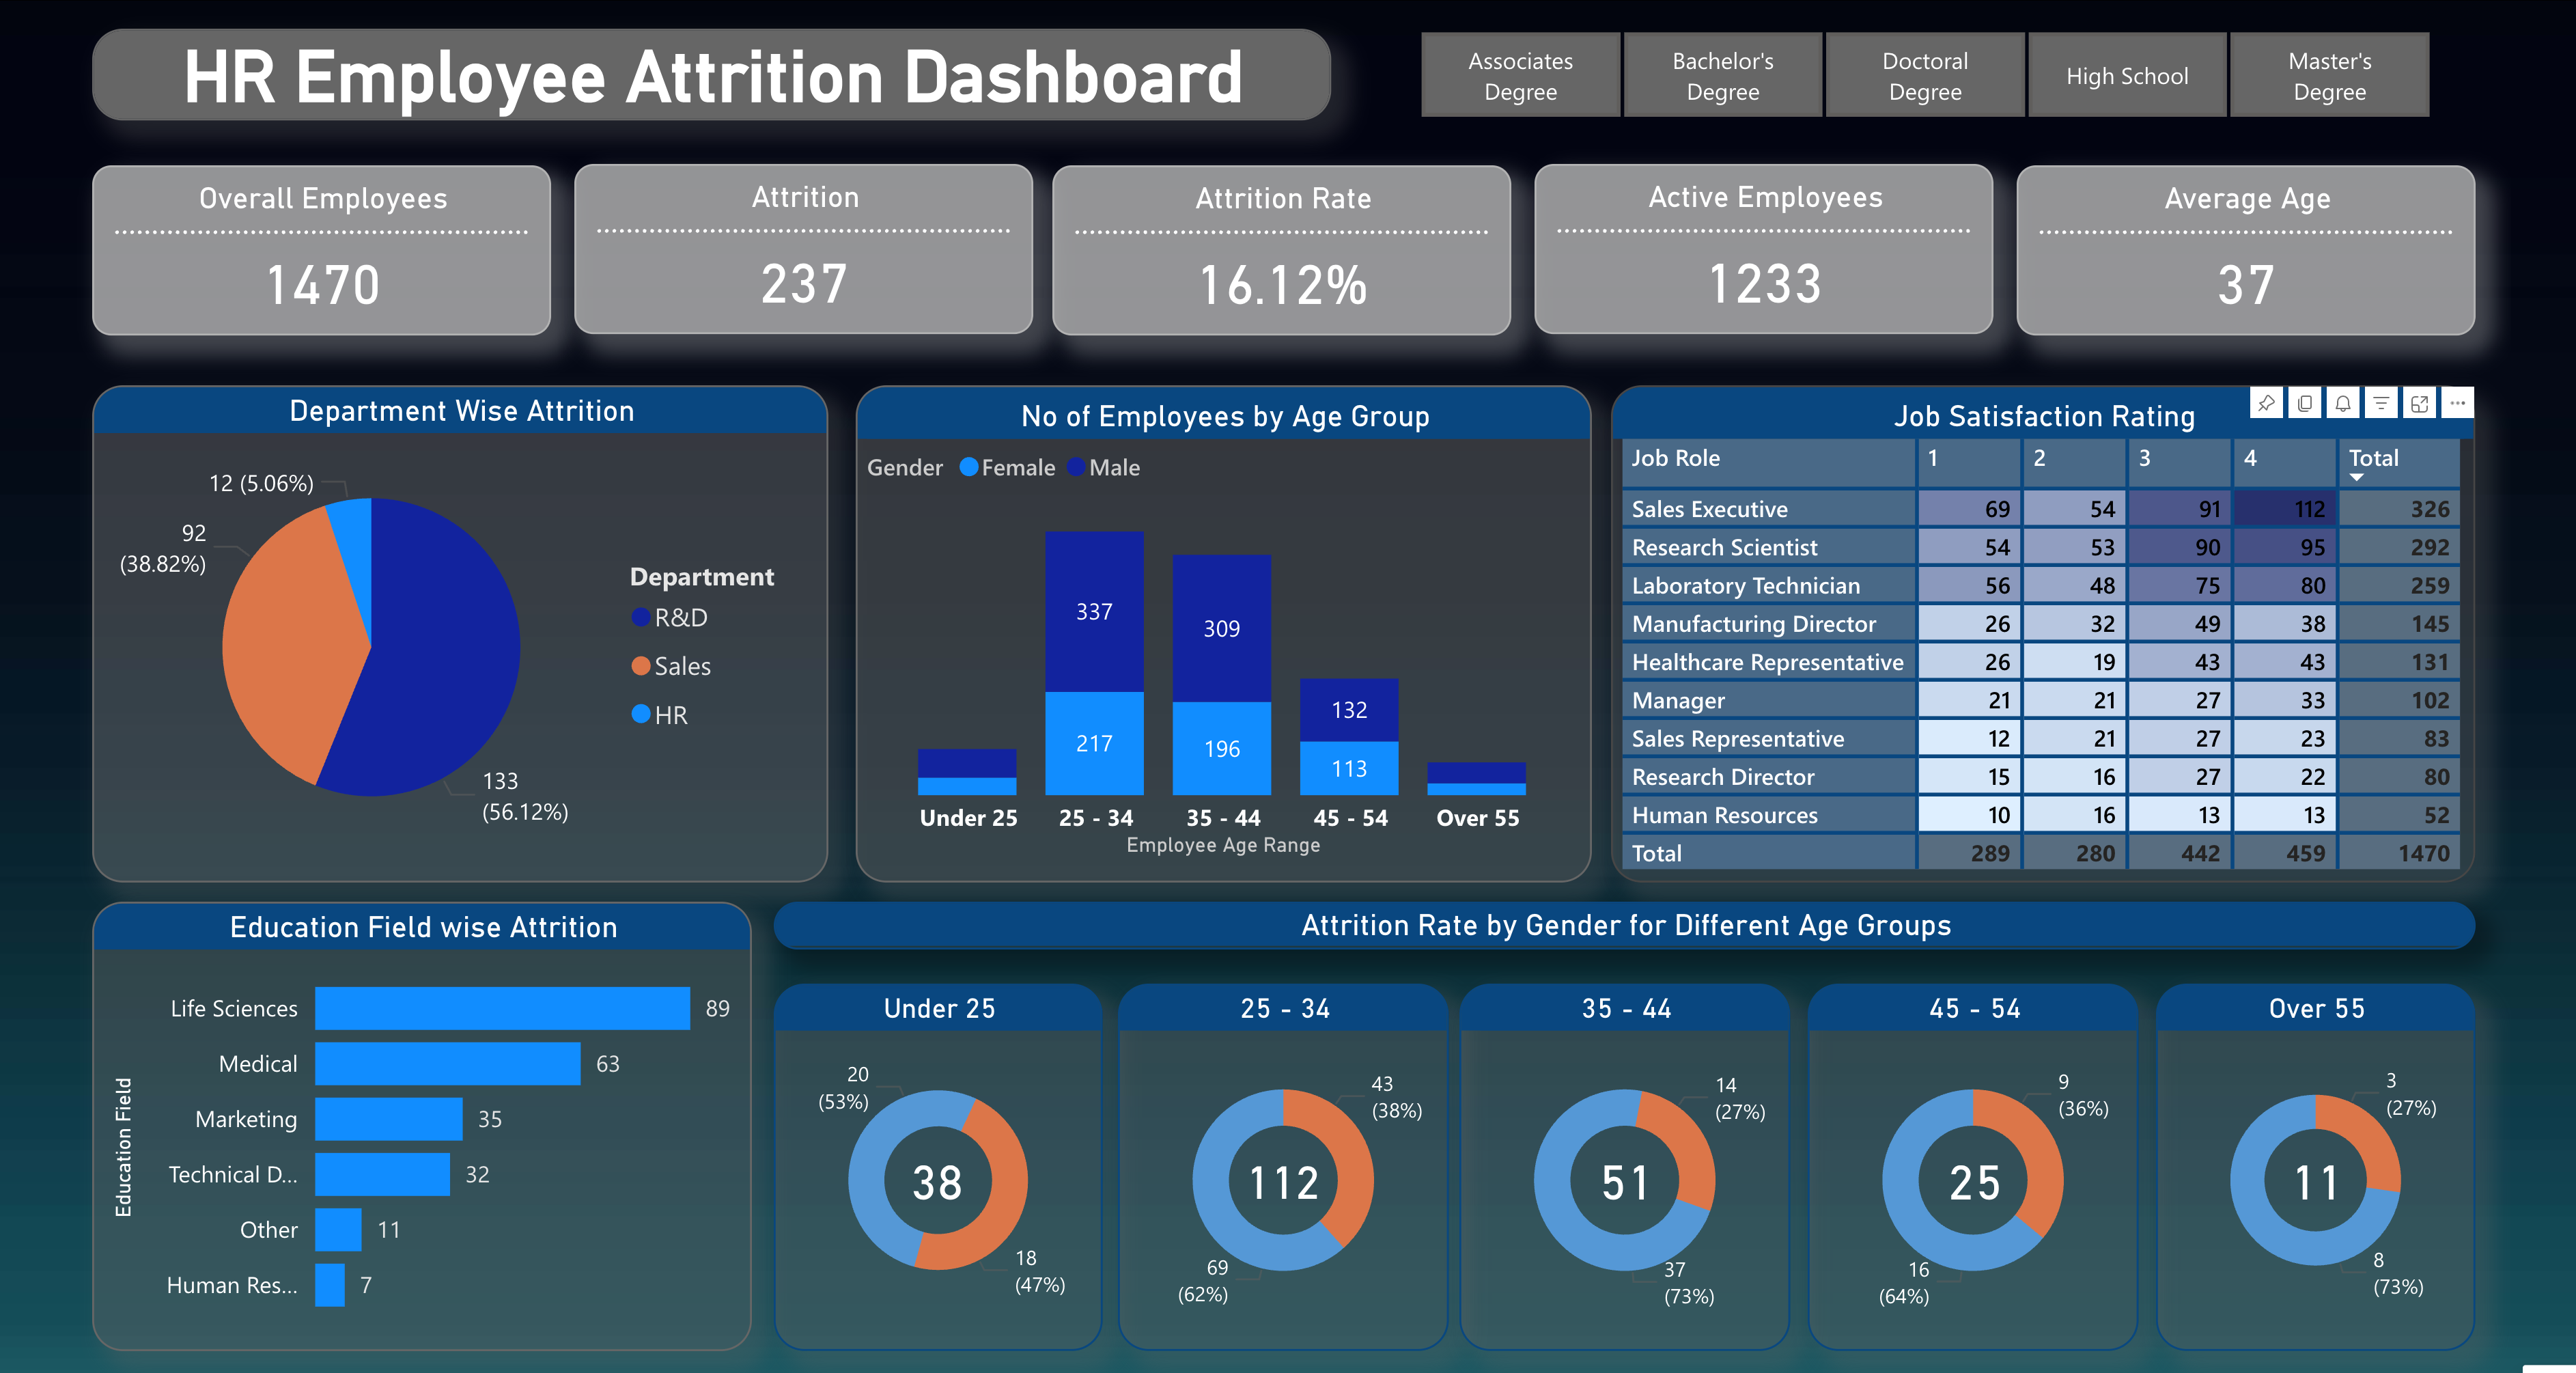

The page's visual inventory and layout, read from the dashboard file:
{"tool":"powerbi","page":{"name":"Page 1","canvas":[1280,720],"ordinal":0},"visuals":[{"type":"card","title":"Overall Employees","fields":{"Values":["CountNonNull(HR data.Employee Count)"]},"box":[15.1,86.5,240,89],"z":0},{"type":"card","title":"Attrition","fields":{"Values":["Sum(HR data.Attrition Count)"]},"box":[267.1,85.5,240,89],"z":1000},{"type":"card","title":"Attrition Rate","fields":{"Values":["HR data.Attrition Rate"]},"box":[517.1,86.5,240,89],"z":2000},{"type":"card","title":"Active Employees","fields":{"Values":["HR data.Active Employees"]},"box":[769.1,85.5,240,89],"z":4000},{"type":"card","title":"Average Age","fields":{"Values":["Avg(HR data.Age)"]},"box":[1021.1,86.5,240,89],"z":5000},{"type":"pieChart","title":"Department Wise Attrition","fields":{"Category":["HR data.Department"],"Y":["Sum(HR data.Attrition Count)"]},"box":[15.1,201.5,385,260],"z":6000},{"type":"columnChart","title":"No of Employees by Age Group","fields":{"Category":["HR data.CF_age band"],"Y":["Sum(HR data.Employee Count)"],"Series":["HR data.Gender"]},"box":[414.1,201.5,385,260],"z":7000},{"type":"pivotTable","title":"Job Satisfaction Rating","fields":{"Rows":["HR data.Job Role"],"Columns":["HR data.Job Satisfaction"],"Values":["Sum(HR data.Employee Count)"]},"box":[809.1,201.5,452,260],"z":8000},{"type":"barChart","title":"Education Field wise Attrition","fields":{"Category":["HR data.Education Field"],"Y":["Sum(HR data.Attrition Count)"]},"box":[15.1,471.5,345,235],"z":9000},{"type":"donutChart","title":"Under 25","fields":{"Category":["HR data.Gender"],"Y":["Sum(HR data.Attrition Count)"],"Series":["HR data.CF_age band"]},"box":[371.1,514.5,172,192],"z":10000},{"type":"textbox","title":"Attrition Rate by Gender for Different Age Groups","box":[371.1,471.5,890,25],"z":11000},{"type":"donutChart","title":"25 - 34","fields":{"Category":["HR data.Gender"],"Y":["Sum(HR data.Attrition Count)"],"Series":["HR data.CF_age band"]},"box":[551.1,514.5,173,192],"z":12000},{"type":"donutChart","title":"35 - 44","fields":{"Category":["HR data.Gender"],"Y":["Sum(HR data.Attrition Count)"],"Series":["HR data.CF_age band"]},"box":[730.1,514.5,173,192],"z":13000},{"type":"donutChart","title":"45 - 54","fields":{"Category":["HR data.Gender"],"Y":["Sum(HR data.Attrition Count)"],"Series":["HR data.CF_age band"]},"box":[912.1,514.5,173,192],"z":14000},{"type":"donutChart","title":"Over 55","fields":{"Category":["HR data.Gender"],"Y":["Sum(HR data.Attrition Count)"],"Series":["HR data.CF_age band"]},"box":[1094.1,514.5,167,192],"z":15000},{"type":"card","fields":{"Values":["Sum(HR data.Attrition Count)"]},"box":[431.1,589.5,51,49],"z":16000},{"type":"card","fields":{"Values":["Sum(HR data.Attrition Count)"]},"box":[612.1,589.5,51,49],"z":17000},{"type":"card","fields":{"Values":["Sum(HR data.Attrition Count)"]},"box":[791.1,589.5,51,49],"z":18000},{"type":"card","fields":{"Values":["Sum(HR data.Attrition Count)"]},"box":[974.1,589.5,51,49],"z":19000},{"type":"card","fields":{"Values":["Sum(HR data.Attrition Count)"]},"box":[1153.1,589.5,51,49],"z":20000},{"type":"textbox","title":"HR Employee Attrition Dashboard","box":[15,15,648,48],"z":20001},{"type":"slicer","fields":{"Values":["HR data.Education"]},"box":[684,15,577,48],"z":20002}]}

Visuals, with their boxes on the page's 1280x720 design canvas (x1, y1, x2, y2). These are canvas units, not pixel positions in the 2576x1373 screenshot, which may show the page scaled, cropped or inside an application window:
"Overall Employees" card: <region>15, 86, 255, 176</region>
"Attrition" card: <region>267, 86, 507, 174</region>
"Attrition Rate" card: <region>517, 86, 757, 176</region>
"Active Employees" card: <region>769, 86, 1009, 174</region>
"Average Age" card: <region>1021, 86, 1261, 176</region>
"Department Wise Attrition" pieChart: <region>15, 202, 400, 462</region>
"No of Employees by Age Group" columnChart: <region>414, 202, 799, 462</region>
"Job Satisfaction Rating" pivotTable: <region>809, 202, 1261, 462</region>
"Education Field wise Attrition" barChart: <region>15, 472, 360, 706</region>
"Under 25" donutChart: <region>371, 514, 543, 706</region>
"Attrition Rate by Gender for Different Age Groups" textbox: <region>371, 472, 1261, 496</region>
"25 - 34" donutChart: <region>551, 514, 724, 706</region>
"35 - 44" donutChart: <region>730, 514, 903, 706</region>
"45 - 54" donutChart: <region>912, 514, 1085, 706</region>
"Over 55" donutChart: <region>1094, 514, 1261, 706</region>
card - Sum(HR data.Attrition Count): <region>431, 590, 482, 638</region>
card - Sum(HR data.Attrition Count): <region>612, 590, 663, 638</region>
card - Sum(HR data.Attrition Count): <region>791, 590, 842, 638</region>
card - Sum(HR data.Attrition Count): <region>974, 590, 1025, 638</region>
card - Sum(HR data.Attrition Count): <region>1153, 590, 1204, 638</region>
"HR Employee Attrition Dashboard" textbox: <region>15, 15, 663, 63</region>
slicer - HR data.Education: <region>684, 15, 1261, 63</region>
